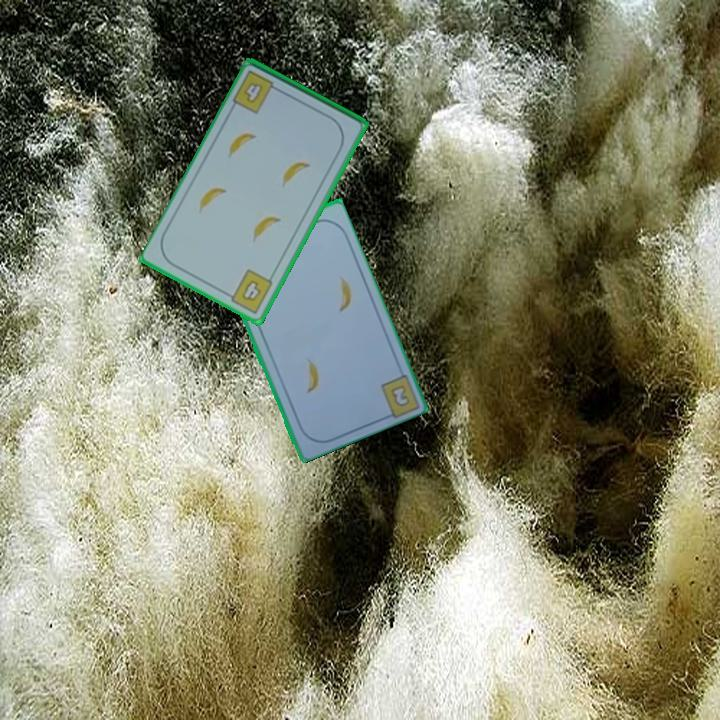2b: (386, 381, 413, 410)
4b: (222, 265, 276, 317), (229, 67, 284, 117)
